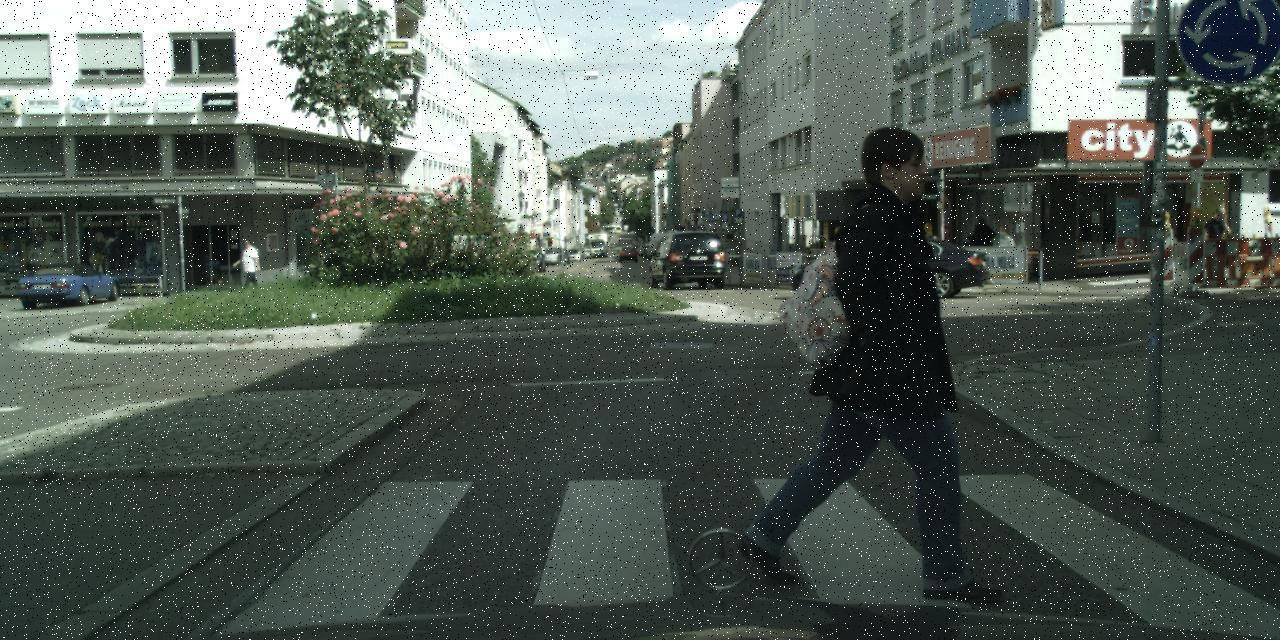ped: (782, 127, 971, 589), (1203, 206, 1232, 278), (968, 215, 994, 279), (238, 238, 260, 292)
